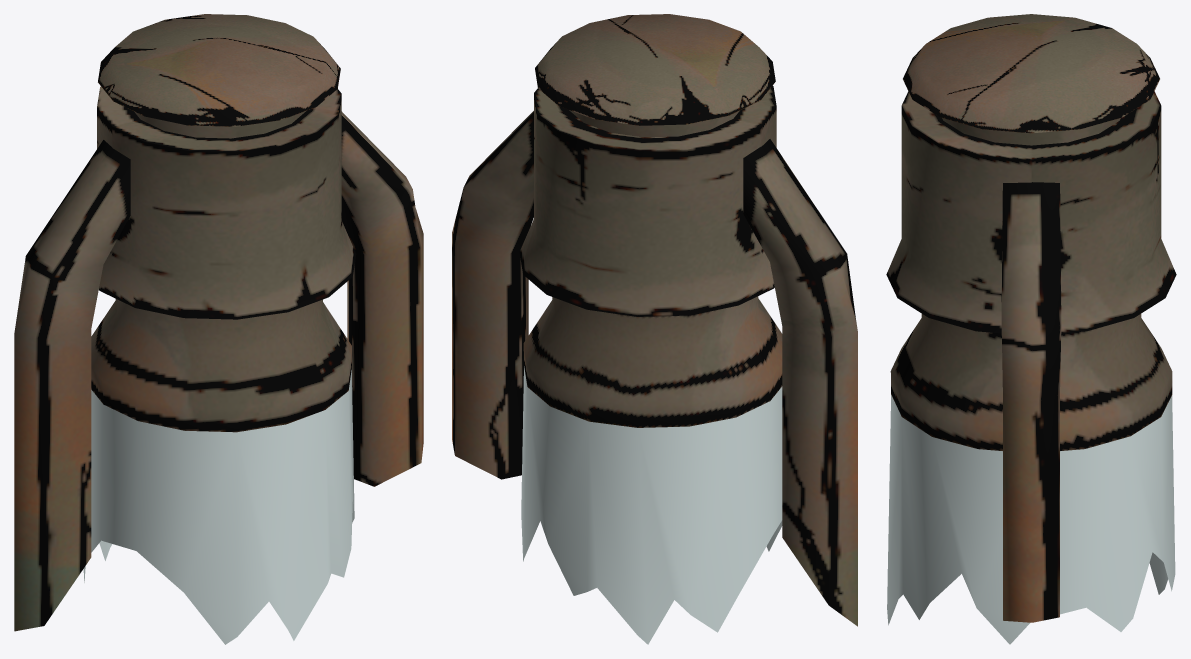
Rendered from lanterngib2.fbx.
3 renders of one model, left to right at view 1: azimuth 30°, elevation 25°; view 2: azimuth 150°, elevation 25°; view 3: azimuth 270°, elevation 25°, orthographic. The views are drawn at different scales.
Visible parts, largest first — view 1: lanterngib2; view 2: lanterngib2; view 3: lanterngib2.
Part boxes in pixels (box(x1,y1,x2,y2)): lanterngib2: box(14, 14, 423, 644); lanterngib2: box(452, 14, 857, 644); lanterngib2: box(886, 14, 1176, 644).
Size of the model in its own units: 187 by 242 by 110.
